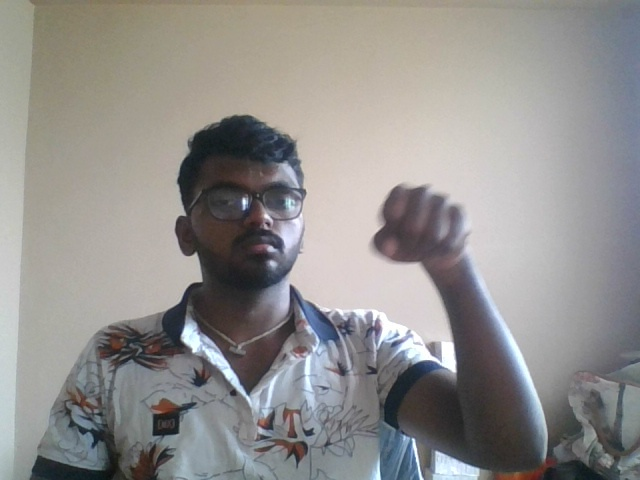Yes: (355, 167, 496, 333)
